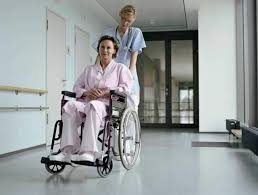wheelchair: (40, 35, 143, 176)
